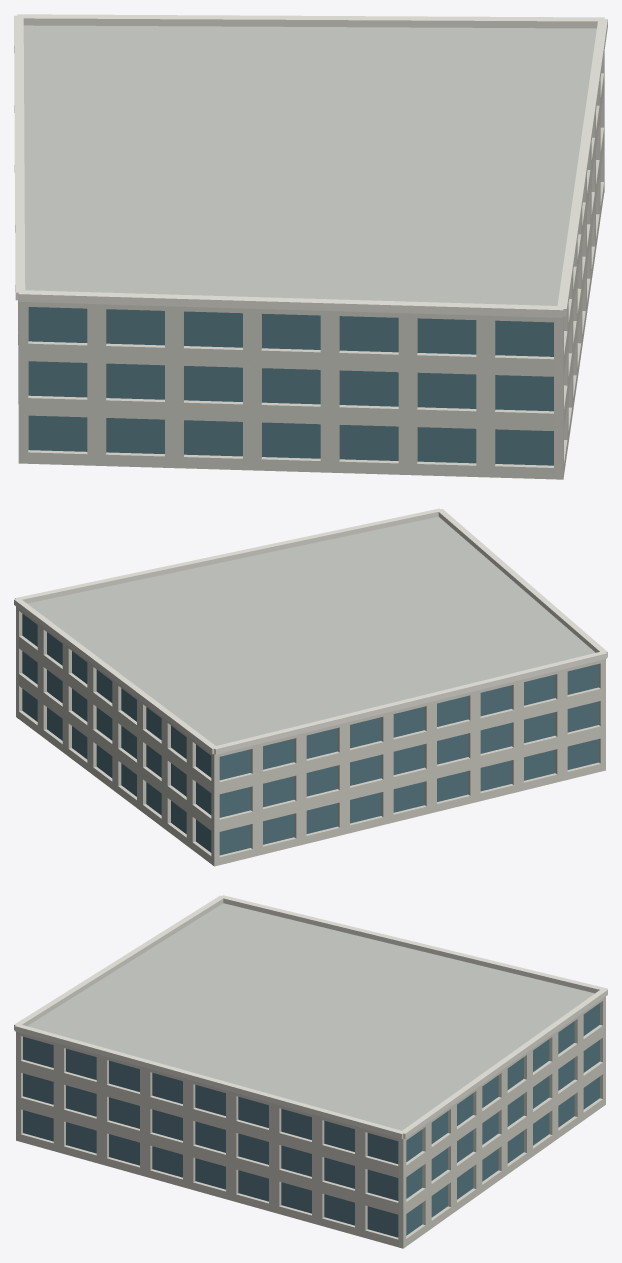
The model's file is sb_1556523911.far.glb.
The picture shows the model from 3 angles, top to bottom: view 1: azimuth 30°, elevation 25°; view 2: azimuth 150°, elevation 25°; view 3: azimuth 270°, elevation 25°; orthographic projection. The views are drawn at different scales.
Parts seen in each view (by area): view 1: roof, wall, glass, trim; view 2: roof, wall, glass, trim; view 3: roof, wall, glass, trim.
Part boxes in pixels (box(x1,y1,x2,y2)): roof: box(23, 25, 596, 305); wall: box(18, 51, 604, 479); glass: box(28, 307, 553, 465); trim: box(14, 14, 607, 317); roof: box(27, 516, 595, 745); wall: box(16, 606, 605, 866); glass: box(22, 613, 598, 855); trim: box(14, 508, 607, 754); roof: box(27, 903, 594, 1130); wall: box(16, 996, 605, 1248); glass: box(23, 1003, 599, 1237); trim: box(14, 895, 607, 1139).
Size of the model in its own units: 43.26 by 9.74 by 45.45.
